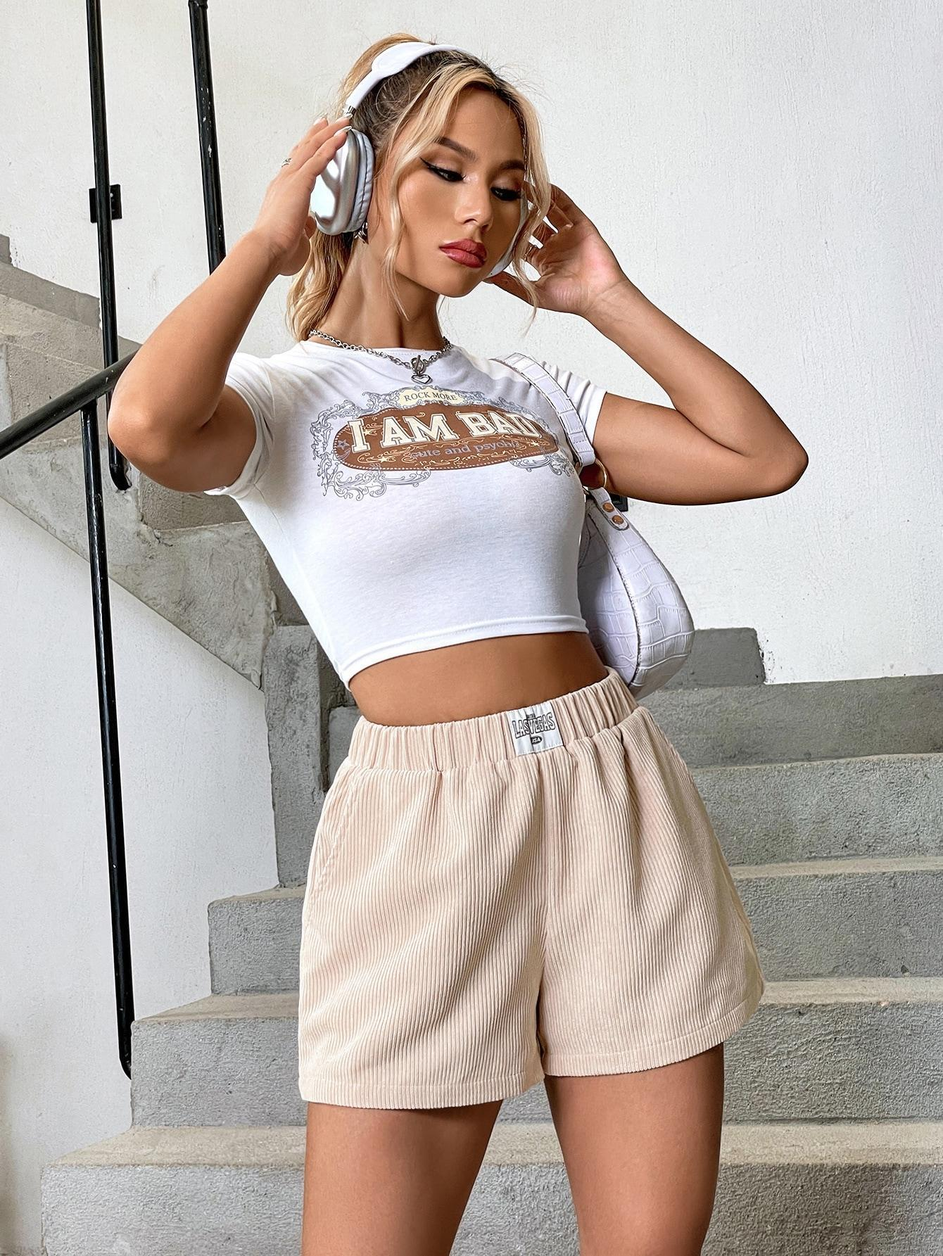Shorts: (287, 708, 776, 1114)
short sleeve shirt: (187, 333, 616, 694)
